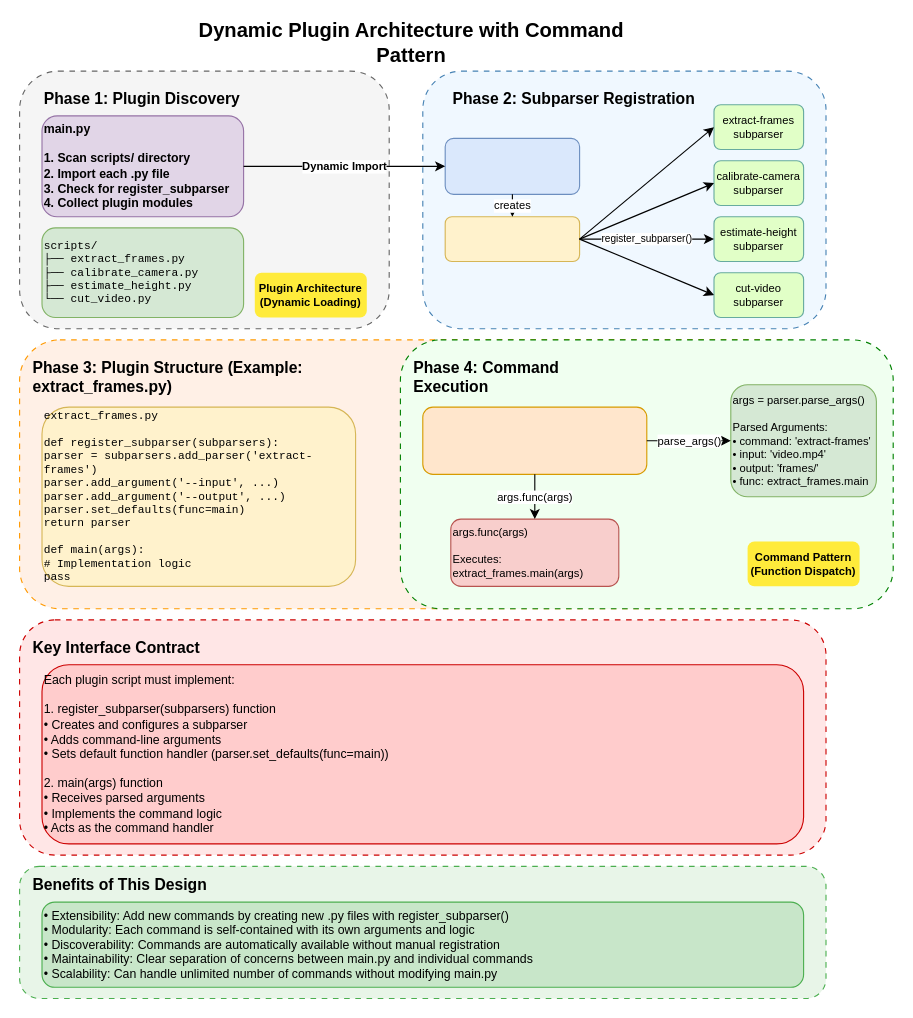
Image size: 913x1018. Some labels were removed from this diagram. Here are the shapes that lost their labels. From the top down, the centre of each, then its label:
[512,165]: ArgumentParser (main parser)
[512,239]: add_subparsers()
[534,440]: User Command python main.py extract-frames --input video.mp4 --output frames/
